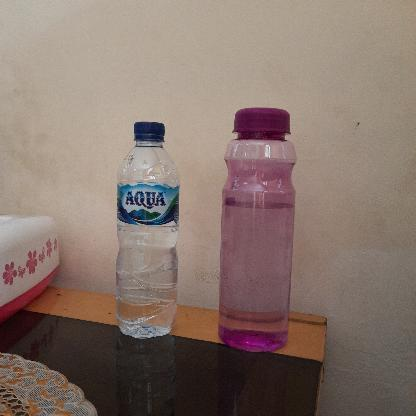Plastic Bottle: (219, 107, 299, 355), (111, 118, 183, 340)
